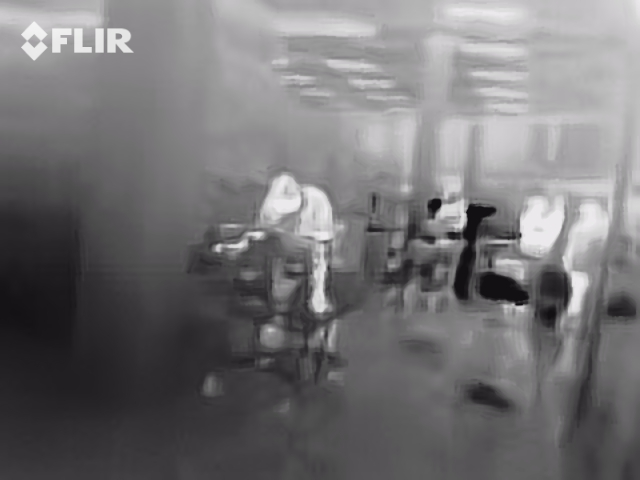head: (268, 171, 303, 216)
